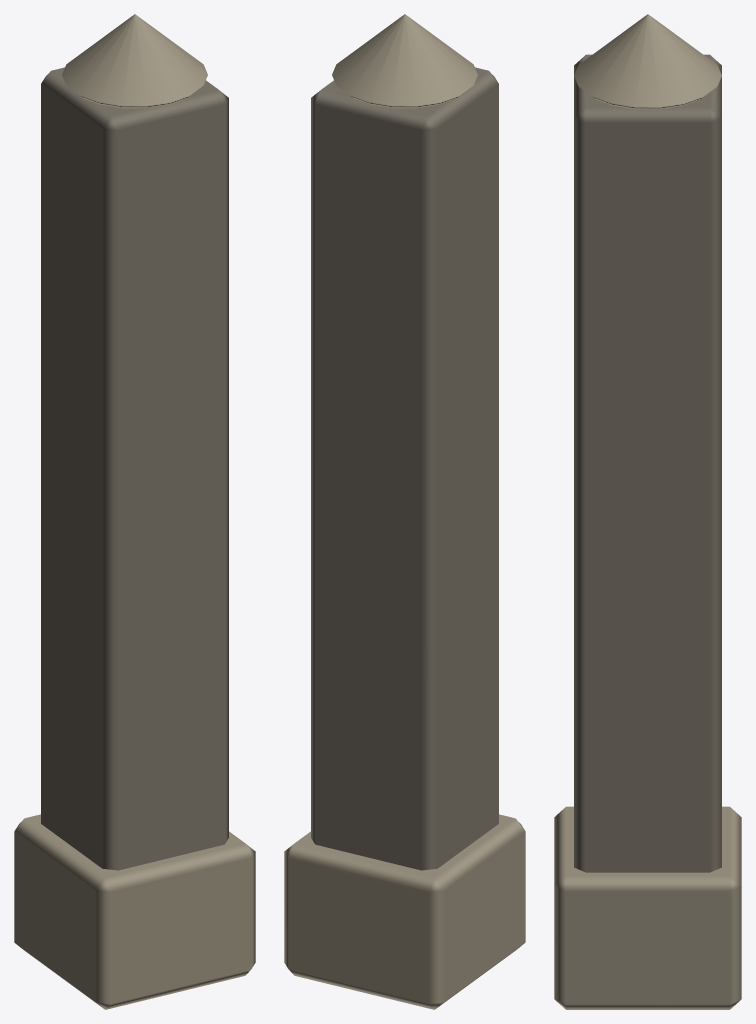
File: stone-halls-post-end.f1a04d5e.glb
The picture shows the model from 3 angles, left to right: view 1: azimuth 30°, elevation 25°; view 2: azimuth 150°, elevation 25°; view 3: azimuth 270°, elevation 25°; orthographic projection.
Visible parts, largest first — view 1: body; view 2: body; view 3: body.
Boxes of the visible parts, x1,y1,x2,y2 form: body: (14, 14, 255, 1009); body: (284, 14, 525, 1009); body: (554, 14, 741, 1009).
Bounding box in the file's own units: 0.38 × 2.15 × 0.38.
